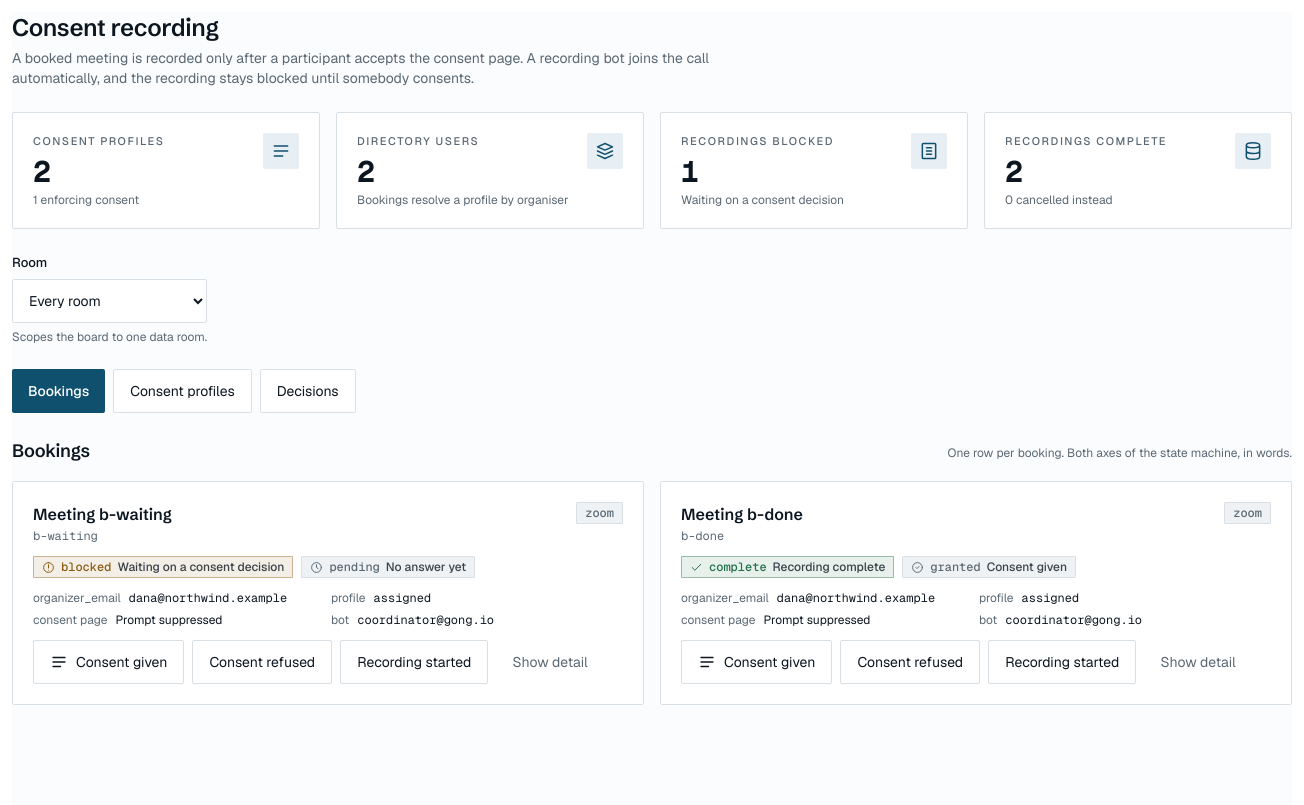
it: the consent profiles panel › names the researched prompt mode rather than paraphrasing it
Expected: the text "b-waiting" is shown, [33,528,98,544]
Click the button "Consent profiles" at (182, 391), box [113,369,252,413]
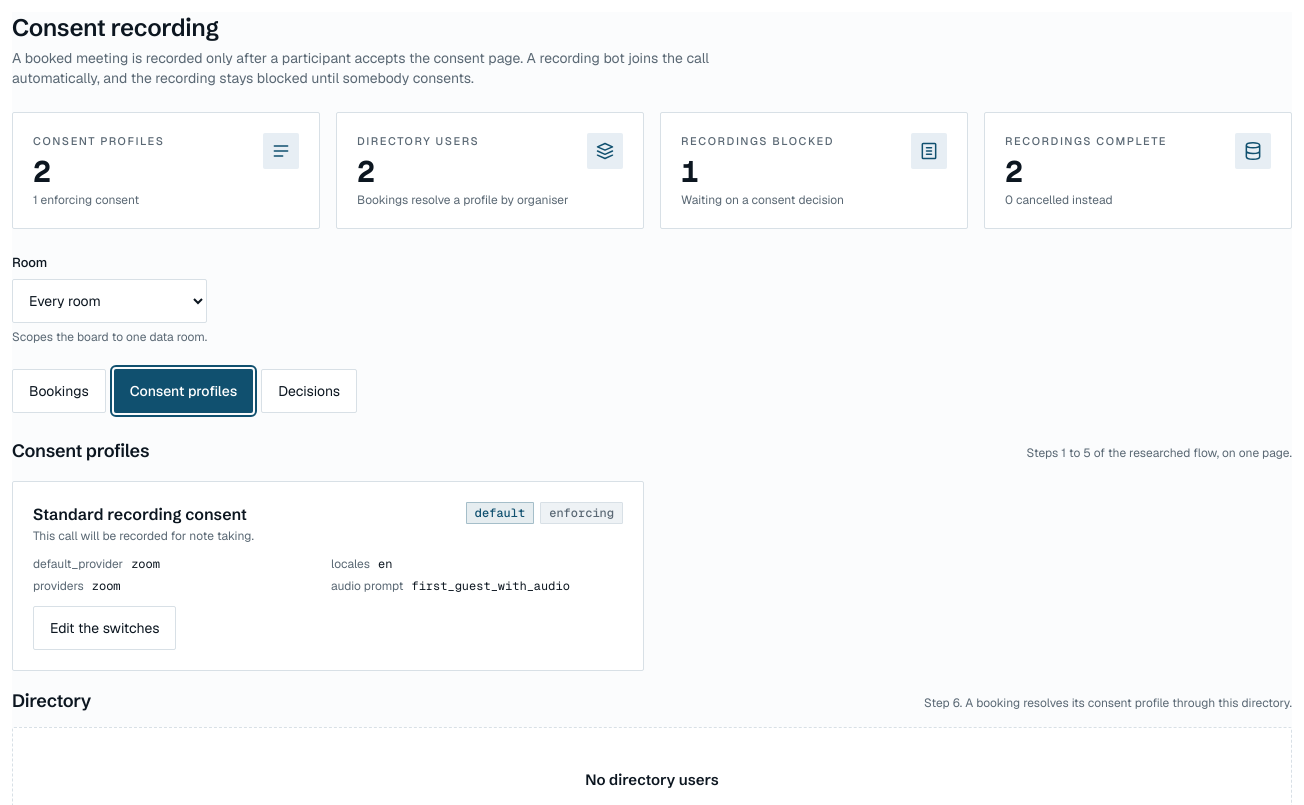
Expected: the text "first_guest_with_audio" is shown, [412,578,570,594]
Expected: the text "default" is shown, [466,502,534,524]
Expected: the text "enforcing" is shown, [540,502,623,524]
